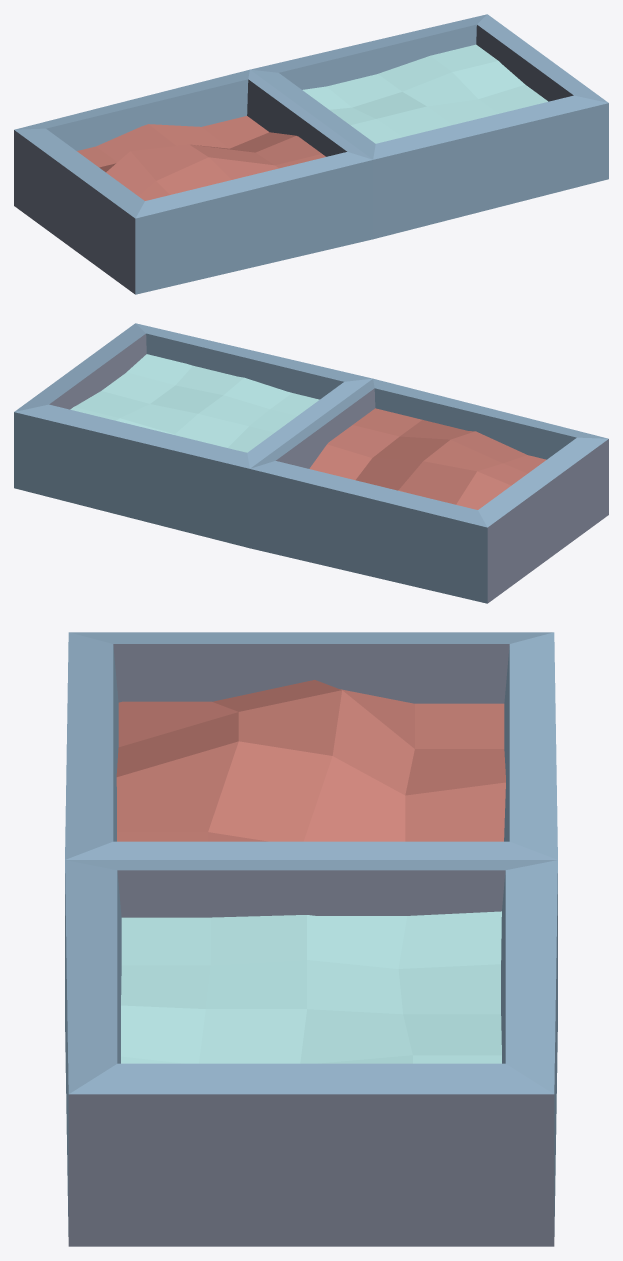
The model's file is Pet Food Bowl.fbx.
The picture shows the model from 3 angles, top to bottom: view 1: azimuth 30°, elevation 25°; view 2: azimuth 150°, elevation 25°; view 3: azimuth 270°, elevation 25°; orthographic projection. The views are drawn at different scales.
Visible parts, largest first — view 1: Pet Food Bowl; view 2: Pet Food Bowl; view 3: Pet Food Bowl.
Part boxes in pixels (left/top/right/bottom): Pet Food Bowl: left=14, top=14, right=608, bottom=294; Pet Food Bowl: left=14, top=323, right=608, bottom=603; Pet Food Bowl: left=65, top=632, right=557, bottom=1246.
Size of the model in its own units: 44.83 by 7.42 by 20.21.
